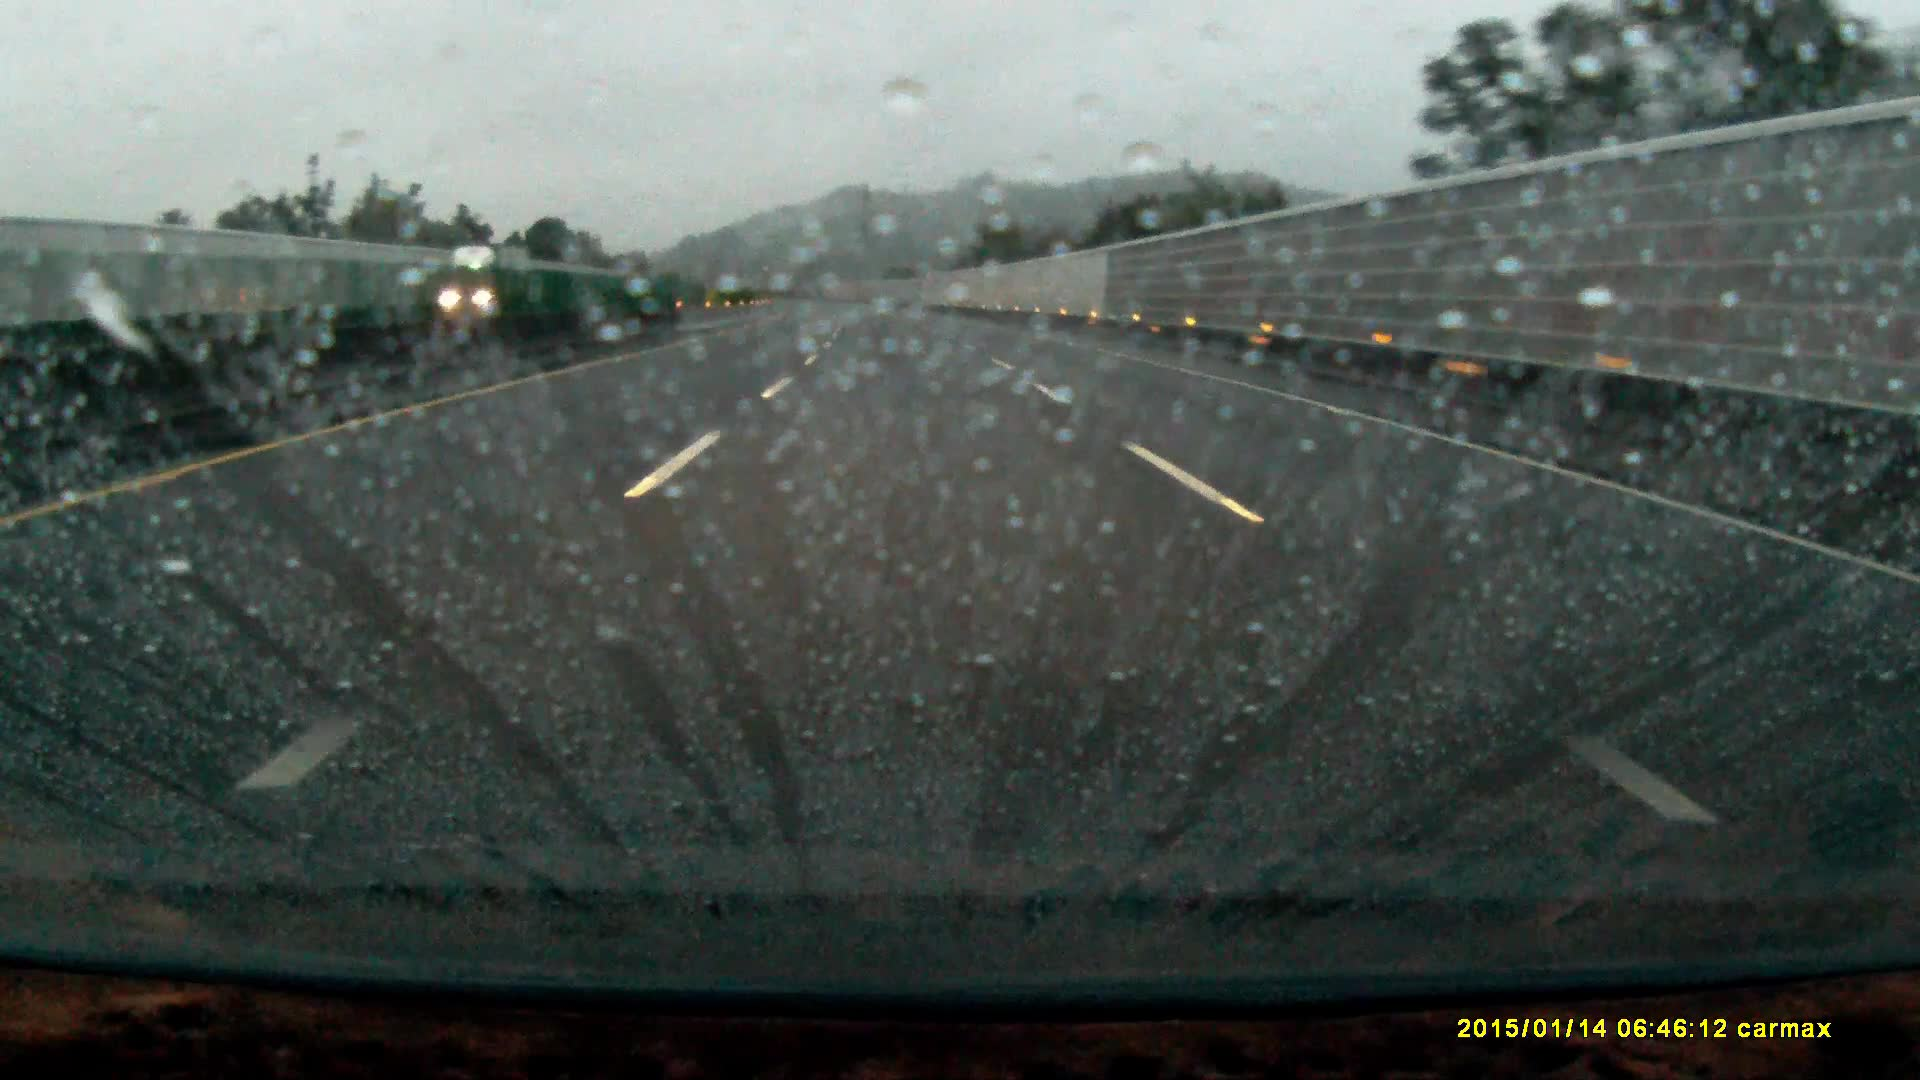vehicle: (447, 245, 531, 320)
